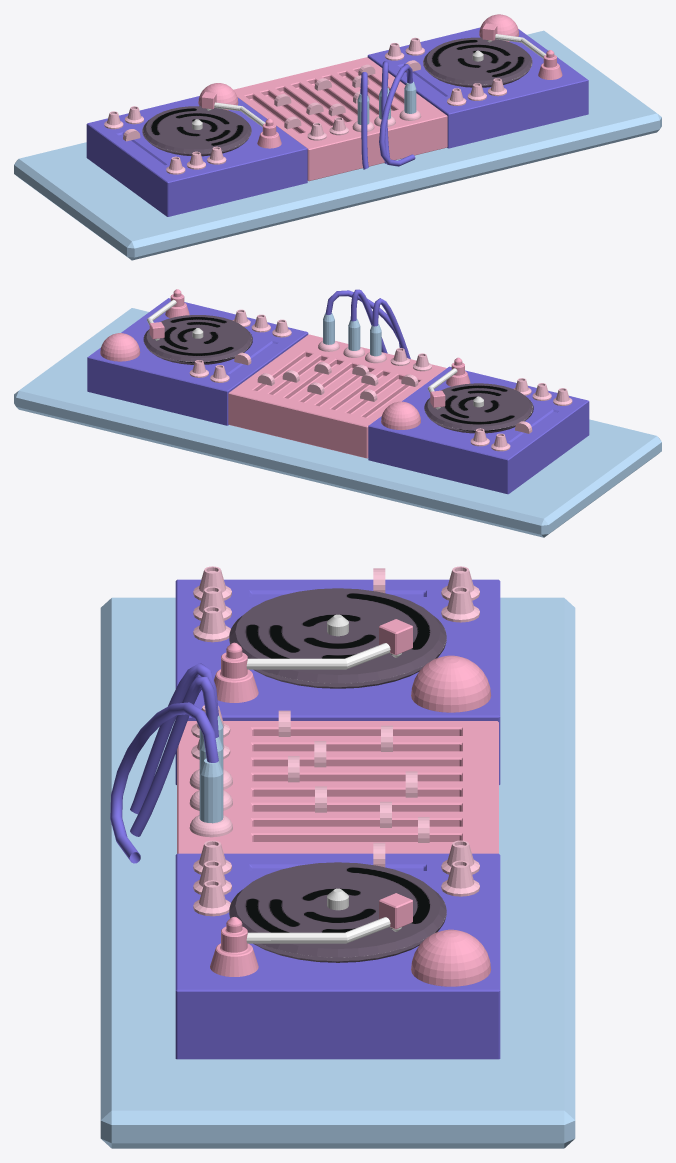
File: club model bofill style dj table.fbx
3 renders of one model, top to bottom at view 1: azimuth 30°, elevation 25°; view 2: azimuth 150°, elevation 25°; view 3: azimuth 270°, elevation 25°, orthographic. The views are drawn at different scales.
Parts seen in each view (by area): view 1: Cube.008, Cube.012, Cube.014, Cube.010, Cylinder.027, Cylinder.037, Cylinder.028, BezierCurve.006, BezierCurve.004, Plane.001, Sphere.005, Sphere.007 (+3 smaller); view 2: Cube.008, Cube.014, Cube.012, Cube.010, Cylinder.037, Cylinder.027, Sphere.005, Sphere.007, Cylinder.028, BezierCurve.004, Cube.013, BezierCurve.005 (+3 smaller); view 3: Cube.008, Cube.010, Cube.014, Cube.012, Cylinder.037, Cylinder.027, Cylinder.028, Sphere.007, Sphere.005, Plane.001, BezierCurve.006, BezierCurve.005 (+7 smaller).
Part boxes in pixels (x1,y1,x2,y2): Cube.008: (14,30,661,260); Cube.012: (86,96,307,216); Cube.014: (233,57,447,181); Cube.010: (367,27,588,148); Cylinder.027: (423,37,532,87); Cylinder.037: (142,106,251,156); Cylinder.028: (257,50,562,148); BezierCurve.006: (379,64,415,166); BezierCurve.004: (360,72,368,169); Plane.001: (214,34,545,126); Sphere.005: (479,14,519,41); Sphere.007: (198,83,238,110); Cube.008: (14,308,661,537); Cube.014: (228,334,446,458); Cube.012: (368,366,589,494); Cube.010: (87,298,308,425); Cylinder.037: (424,383,533,433); Cylinder.027: (143,315,252,364); Sphere.005: (100,333,140,361); Sphere.007: (381,401,420,429); Cylinder.028: (165,289,470,386); BezierCurve.004: (372,298,410,358); Cube.013: (149,322,445,407); BezierCurve.005: (350,289,387,353); Cube.008: (100,597,575,1148); Cube.010: (175,853,500,1059); Cube.014: (177,721,498,853); Cube.012: (175,579,500,784); Cylinder.037: (229,588,446,688); Cylinder.027: (229,862,446,962); Cylinder.028: (210,642,258,976); Sphere.007: (411,655,491,712); Sphere.005: (411,929,491,986); Plane.001: (246,643,390,943); BezierCurve.006: (110,702,218,863); BezierCurve.005: (130,676,218,836).
Bounding box in the file's own units: 1120 × 229 × 430.
